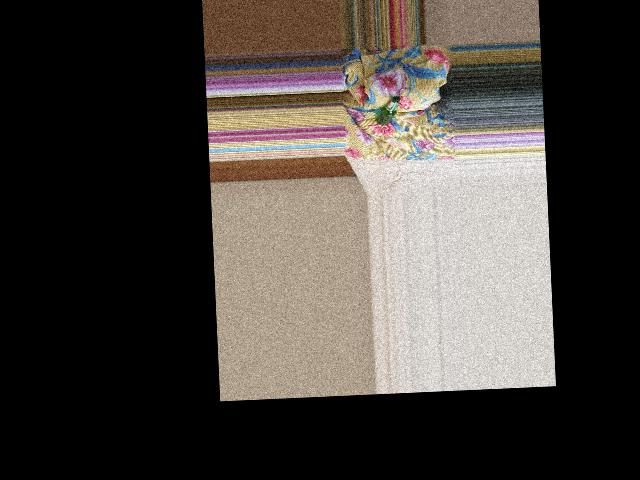beer: (375, 95, 400, 125)
